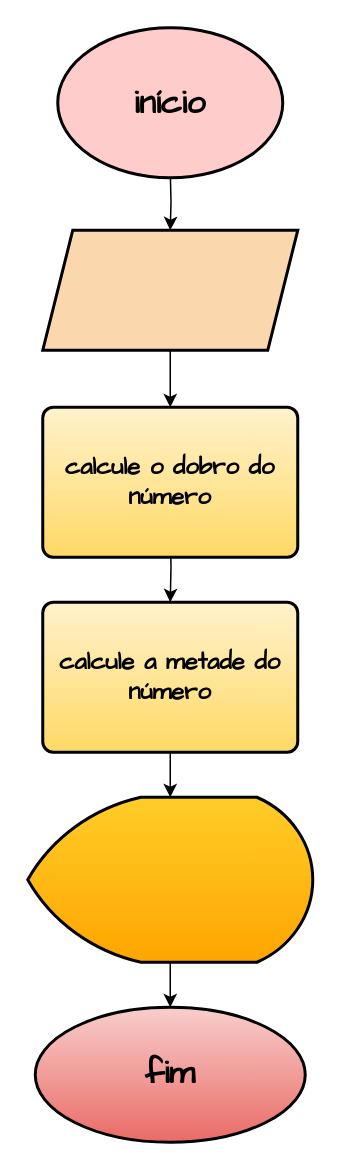
The diagram is 339 pixels wide and 1169 high, and some of its shapes have lost their labels. Each missing label, with the centre of its shape:
exibir o dobro e a metade do valor: the point at 170,879
obtenha um número: the point at 169,289
